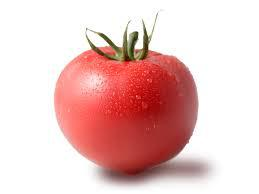tomato: (55, 50, 201, 170)
